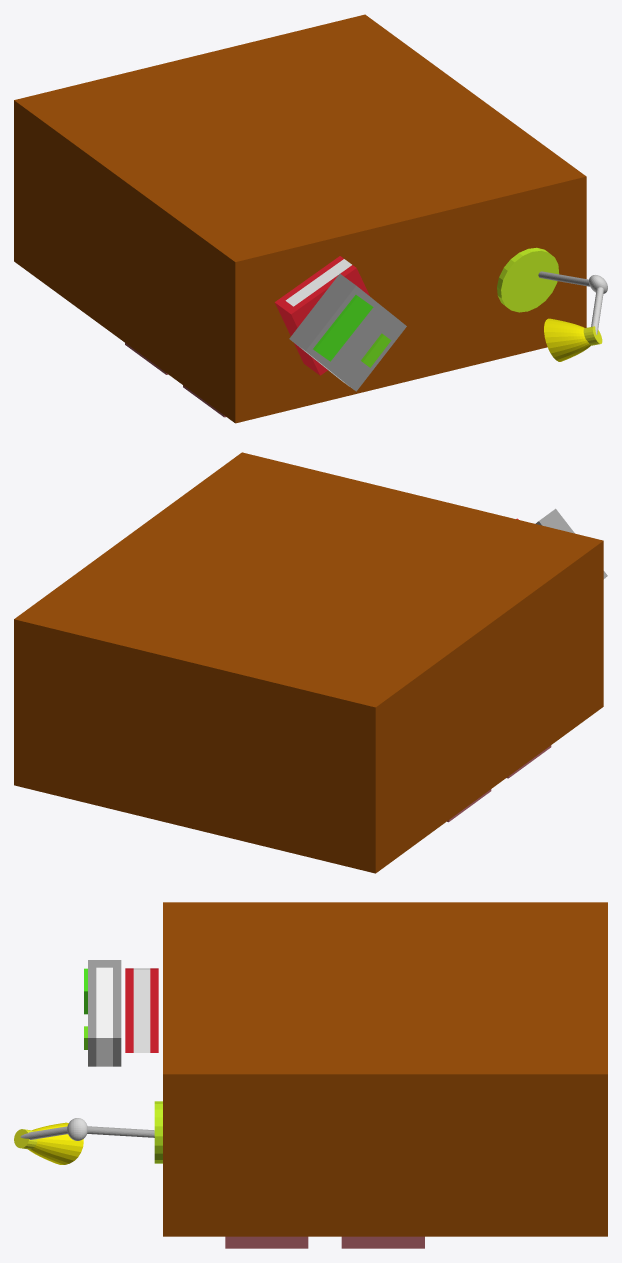
File: tinker.obj
The picture shows the model from 3 angles, top to bottom: view 1: azimuth 30°, elevation 25°; view 2: azimuth 150°, elevation 25°; view 3: azimuth 270°, elevation 25°; orthographic projection. The views are drawn at different scales.
Visible parts, largest first — view 1: group_0_10374144, group_0_10395294, group_0_12973343, group_0_15277357, group_0_5105949, group_0_16774656, group_0_16777215; view 2: group_0_10374144; view 3: group_0_10374144, group_0_16777215, group_0_12215917, group_0_10395294, group_0_15277357, group_0_16774656, group_0_12973343, group_0_11250603.
Part boxes in pixels (x1,y1,x2,y2): group_0_10374144: (14,14,586,423); group_0_10395294: (289,274,406,391); group_0_12973343: (497,247,559,312); group_0_15277357: (274,256,369,375); group_0_5105949: (313,295,373,361); group_0_16774656: (544,318,590,361); group_0_16777215: (285,259,351,386); group_0_10374144: (14,452,603,873); group_0_10374144: (163,902,607,1236); group_0_16777215: (96,967,150,1066); group_0_12215917: (225,1236,424,1248); group_0_10395294: (88,960,121,1066); group_0_15277357: (125,968,158,1052); group_0_16774656: (28,1122,83,1164); group_0_12973343: (154,1101,162,1163); group_0_11250603: (87,1126,154,1137).
Bounding box in the file's own units: 98 × 54.91 × 143.
